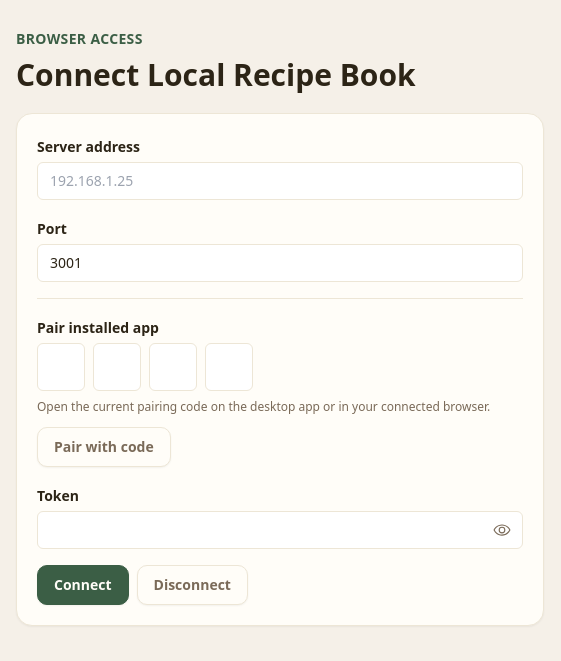
Test case: ConnectPage QA baseline › shows validation feedback when required fields are empty
Click the button "Connect" at (83,584), box x1=37 y1=564 x2=128 y2=604
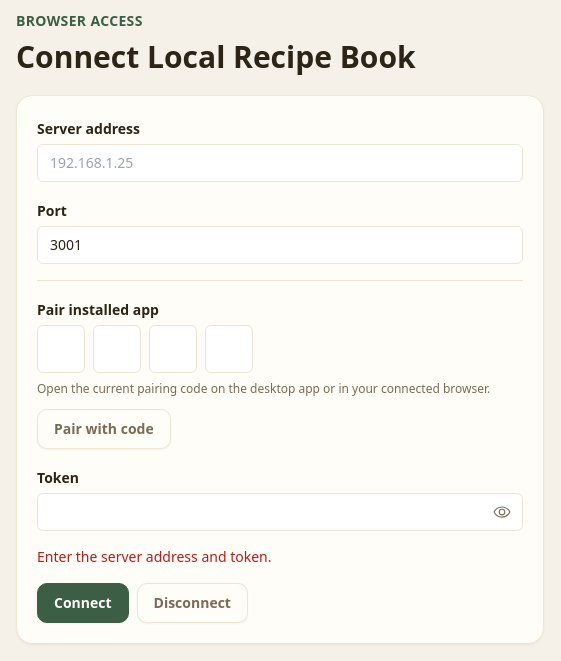
Check: the text "Enter the server address and token." is shown, box x1=37 y1=546 x2=272 y2=566
